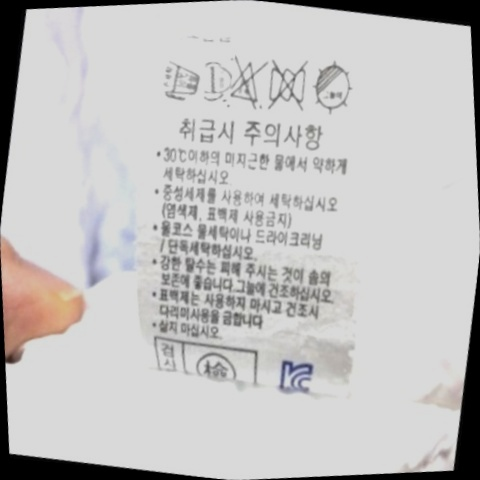DN_wring: (254, 46, 326, 122)
dry_clean: (191, 53, 241, 105)
hand_wash: (146, 43, 215, 111)
non_chlorine_bleach: (216, 44, 279, 116)
shade_dry: (296, 46, 373, 129)
